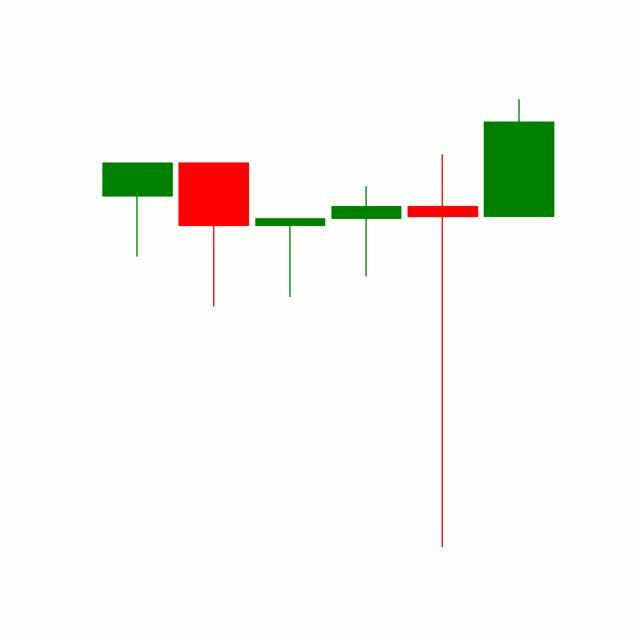Spinning Top: (404, 151, 482, 553)
